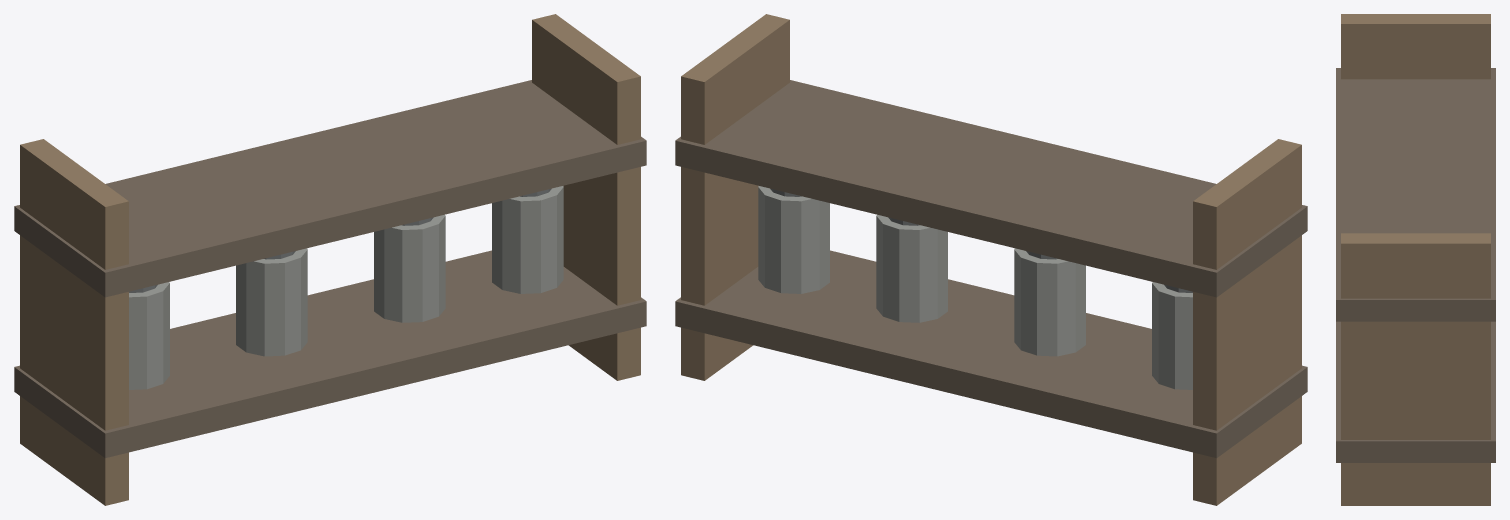
File: milchkannen_regal.glb
The picture shows the model from 3 angles, left to right: view 1: azimuth 30°, elevation 25°; view 2: azimuth 150°, elevation 25°; view 3: azimuth 270°, elevation 25°; orthographic projection. The views are drawn at different scales.
Parts seen in each view (by area): view 1: milchkannen_regal_n4, milchkannen_regal_n3, milchkannen_regal_n1, milchkannen_regal_n2, milchkannen_regal_n9, milchkannen_regal_n11, milchkannen_regal_n7, milchkannen_regal_n5; view 2: milchkannen_regal_n4, milchkannen_regal_n3, milchkannen_regal_n1, milchkannen_regal_n2, milchkannen_regal_n9, milchkannen_regal_n11, milchkannen_regal_n7, milchkannen_regal_n5; view 3: milchkannen_regal_n2, milchkannen_regal_n4, milchkannen_regal_n1, milchkannen_regal_n3.
Boxes of the visible parts, bbox=[...] form: milchkannen_regal_n4: bbox=[14, 80, 646, 297]; milchkannen_regal_n3: bbox=[14, 250, 646, 458]; milchkannen_regal_n1: bbox=[20, 139, 128, 505]; milchkannen_regal_n2: bbox=[532, 14, 640, 380]; milchkannen_regal_n9: bbox=[374, 214, 445, 322]; milchkannen_regal_n11: bbox=[492, 186, 563, 293]; milchkannen_regal_n7: bbox=[236, 248, 307, 356]; milchkannen_regal_n5: bbox=[129, 282, 169, 389]; milchkannen_regal_n4: bbox=[675, 80, 1307, 297]; milchkannen_regal_n3: bbox=[675, 250, 1307, 458]; milchkannen_regal_n1: bbox=[1193, 139, 1301, 505]; milchkannen_regal_n2: bbox=[681, 14, 789, 380]; milchkannen_regal_n9: bbox=[876, 214, 947, 322]; milchkannen_regal_n11: bbox=[758, 186, 829, 293]; milchkannen_regal_n7: bbox=[1014, 248, 1085, 356]; milchkannen_regal_n5: bbox=[1152, 282, 1192, 389]; milchkannen_regal_n2: bbox=[1341, 233, 1490, 505]; milchkannen_regal_n4: bbox=[1336, 68, 1495, 321]; milchkannen_regal_n1: bbox=[1341, 14, 1490, 79]; milchkannen_regal_n3: bbox=[1336, 321, 1495, 462].
Bounding box in the file's own units: 2.75 × 1.45 × 0.8.
